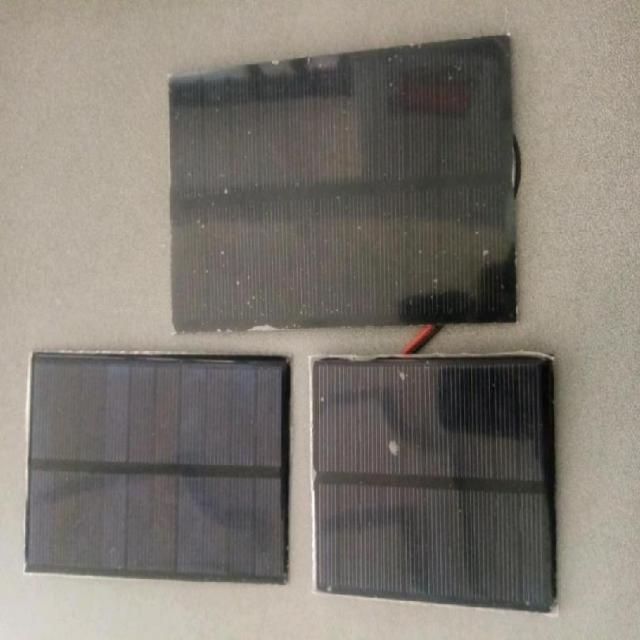faulty: (175, 62, 514, 319), (319, 358, 550, 602)
no faulty: (32, 349, 276, 589)
